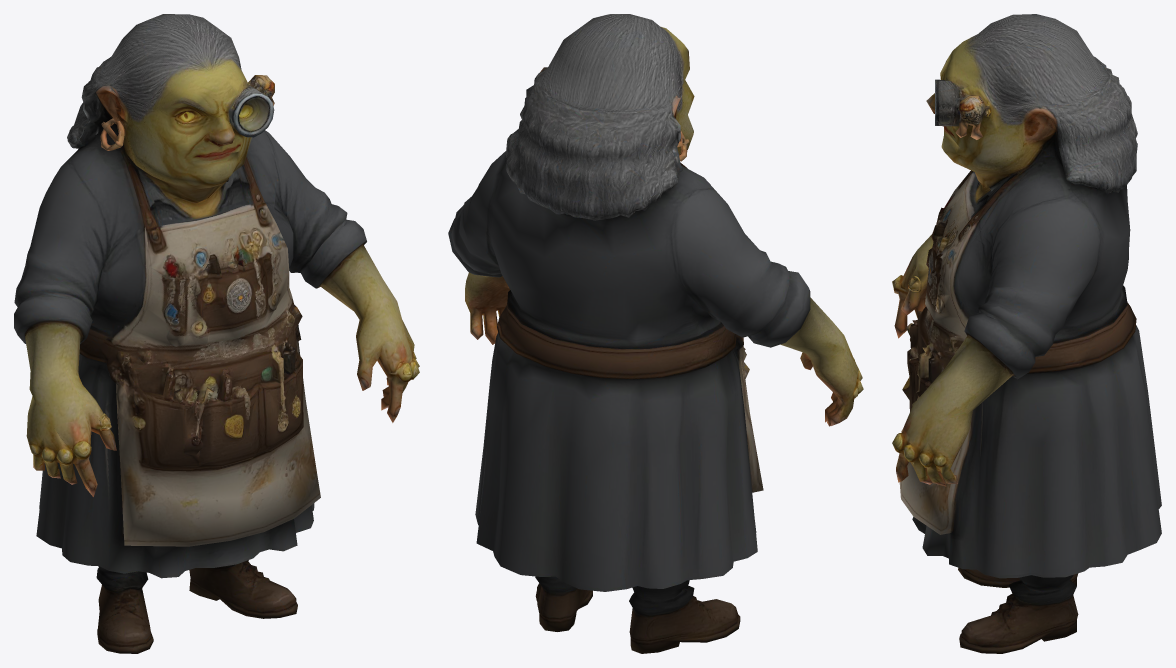
The picture shows the model from 3 angles, left to right: view 1: azimuth 30°, elevation 25°; view 2: azimuth 150°, elevation 25°; view 3: azimuth 270°, elevation 25°; orthographic projection. The views are drawn at different scales.
Visible parts, largest first — view 1: tripo_node_e5c25661-e151-4077-b2b1-139cb430e797; view 2: tripo_node_e5c25661-e151-4077-b2b1-139cb430e797; view 3: tripo_node_e5c25661-e151-4077-b2b1-139cb430e797.
Boxes of the visible parts, x1,y1,x2,y2 form: tripo_node_e5c25661-e151-4077-b2b1-139cb430e797: (14, 14, 419, 653); tripo_node_e5c25661-e151-4077-b2b1-139cb430e797: (448, 14, 863, 653); tripo_node_e5c25661-e151-4077-b2b1-139cb430e797: (892, 14, 1161, 653).
Bounding box in the file's own units: 0.6816 × 0.998 × 0.416.
1 material, 1 textured.
